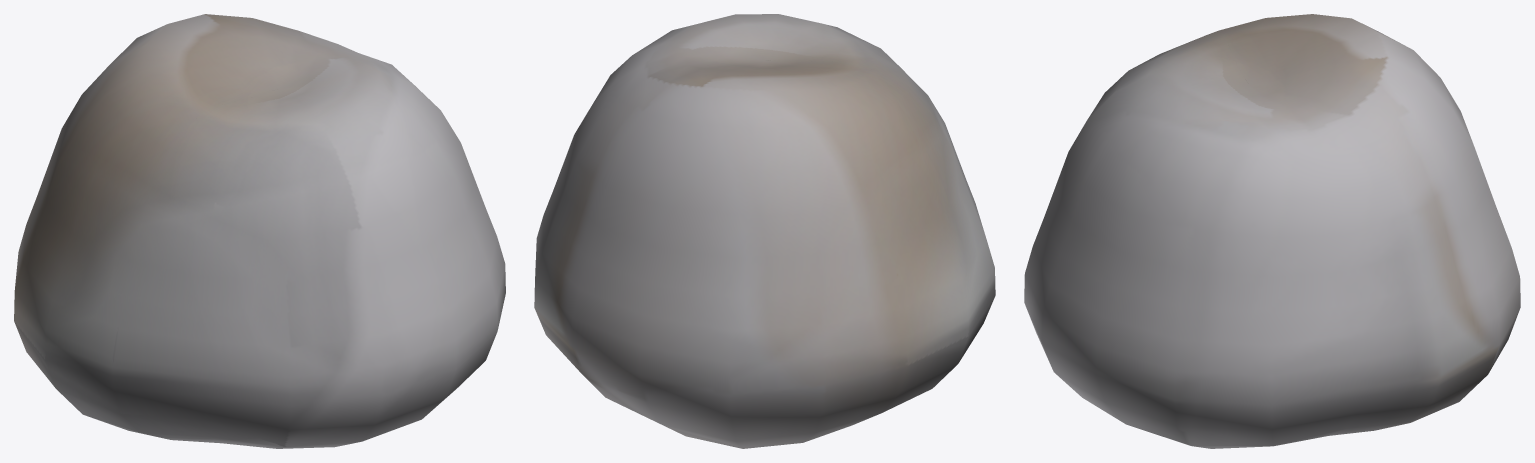
File: rock1.fbx
3 renders of one model, left to right at view 1: azimuth 30°, elevation 25°; view 2: azimuth 150°, elevation 25°; view 3: azimuth 270°, elevation 25°, orthographic. The views are drawn at different scales.
Parts seen in each view (by area): view 1: rock1; view 2: rock1; view 3: rock1.
Part boxes in pixels (<box>): rock1: <box>14,14,505,448</box>; rock1: <box>534,14,995,448</box>; rock1: <box>1024,14,1520,448</box>.
Size of the model in its own units: 225 by 180 by 226.
1 material, 1 textured.
